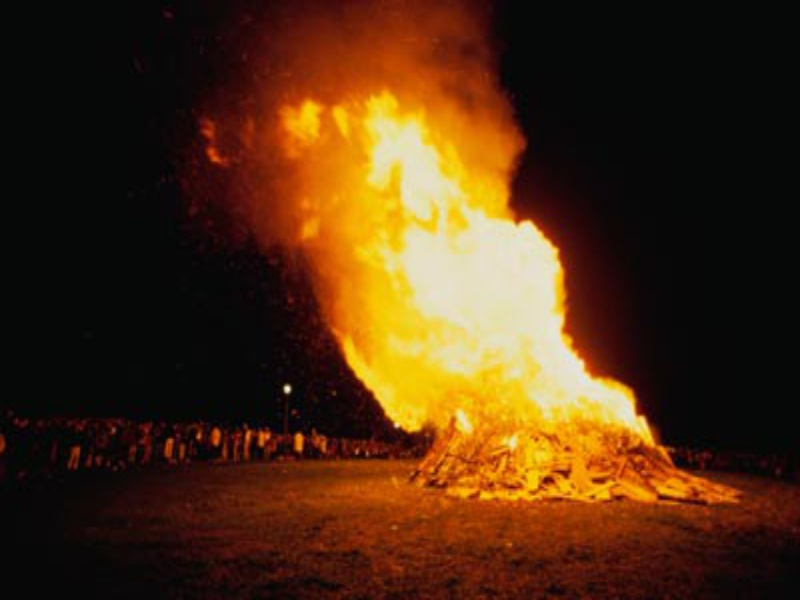fire: (370, 194, 646, 433)
